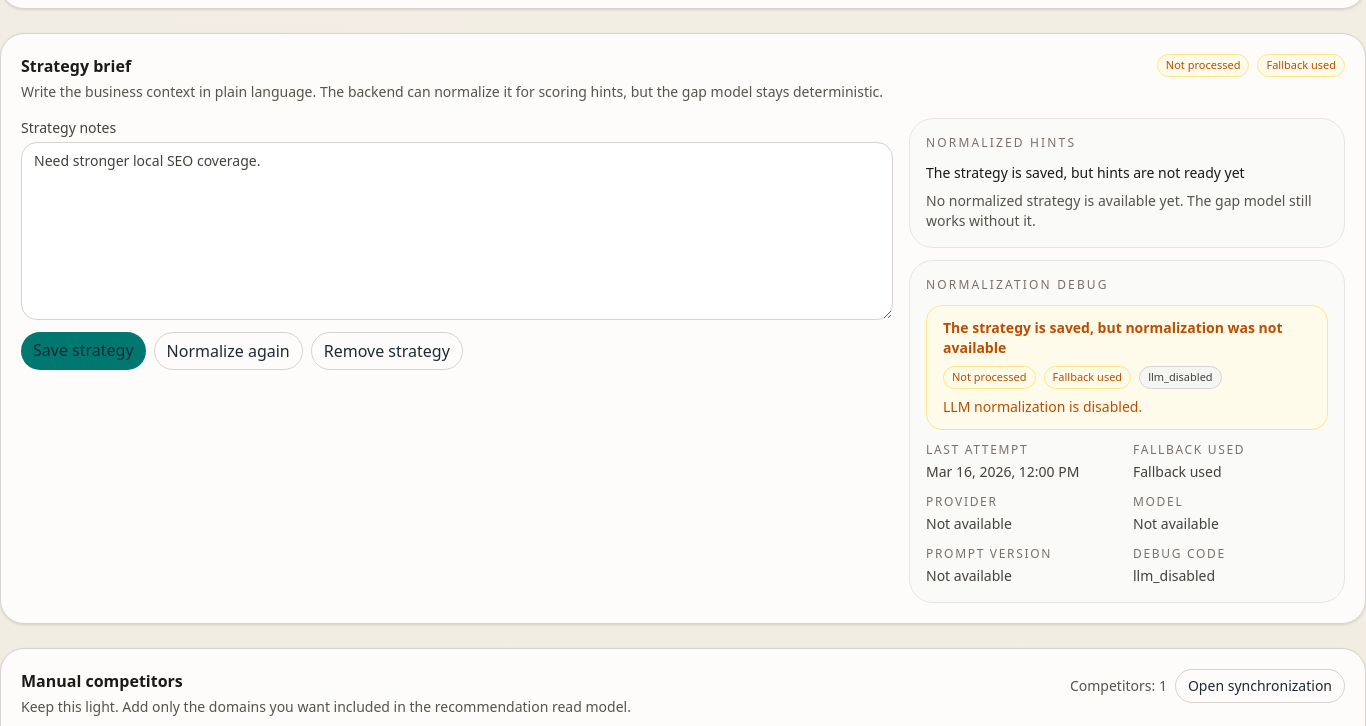
Test: SiteCompetitiveGapPage › reruns strategy normalization and syncs competitors on demand
This screenshot has width=1366, height=726.
(page scrolled)
Step 1. Click the button "Normalize again" → (228, 351), box [154,332,303,370]
(page scrolled)
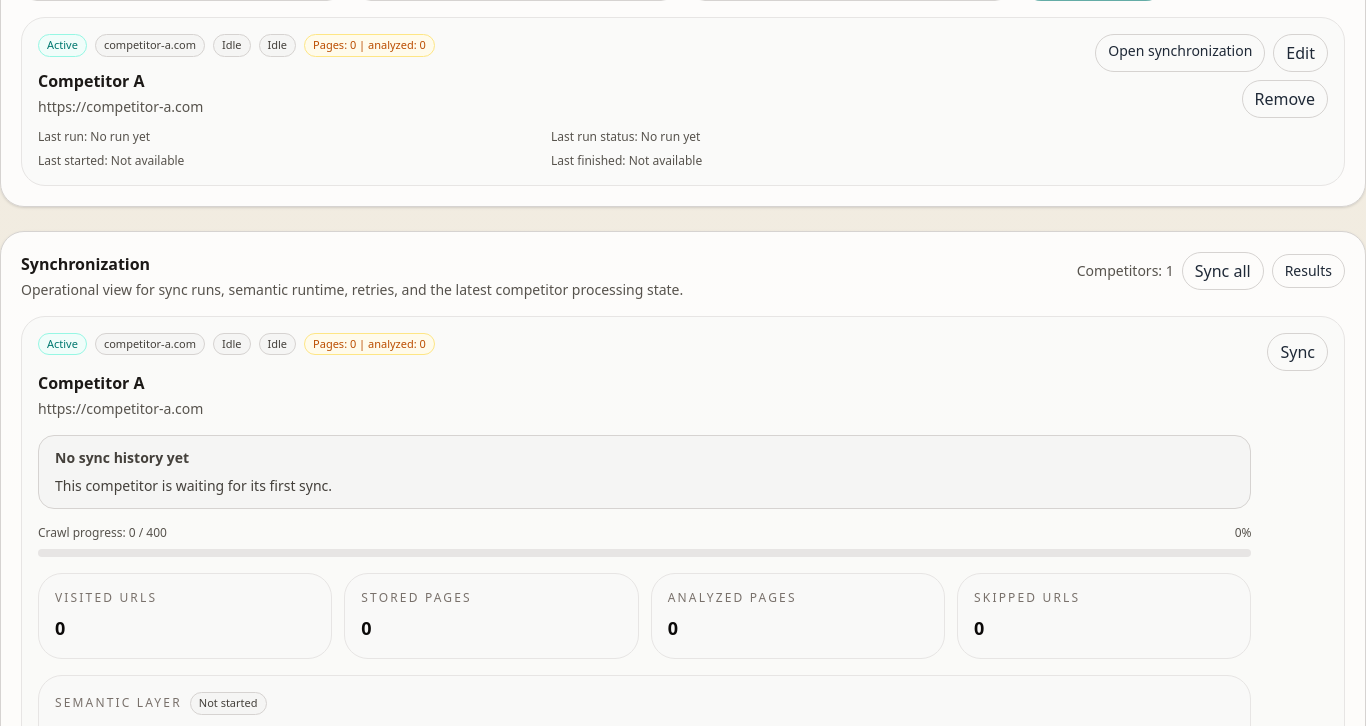
Step 2. Click the button "Sync" → (1298, 352), box [1268,332,1328,370]
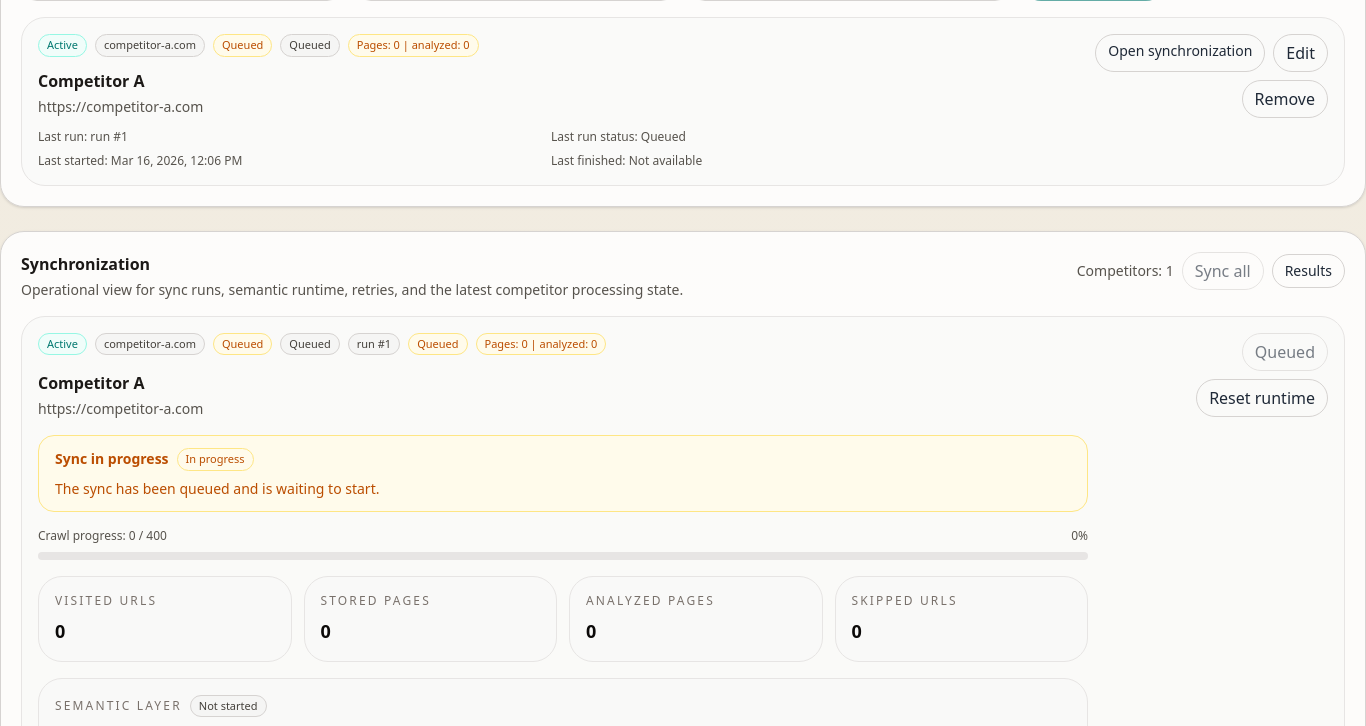
Result: the 1st text "Queued" is shown at [213,34,272,56]
Step 3. Click the button "Reset runtime" → (1262, 398), box [1196,378,1328,416]
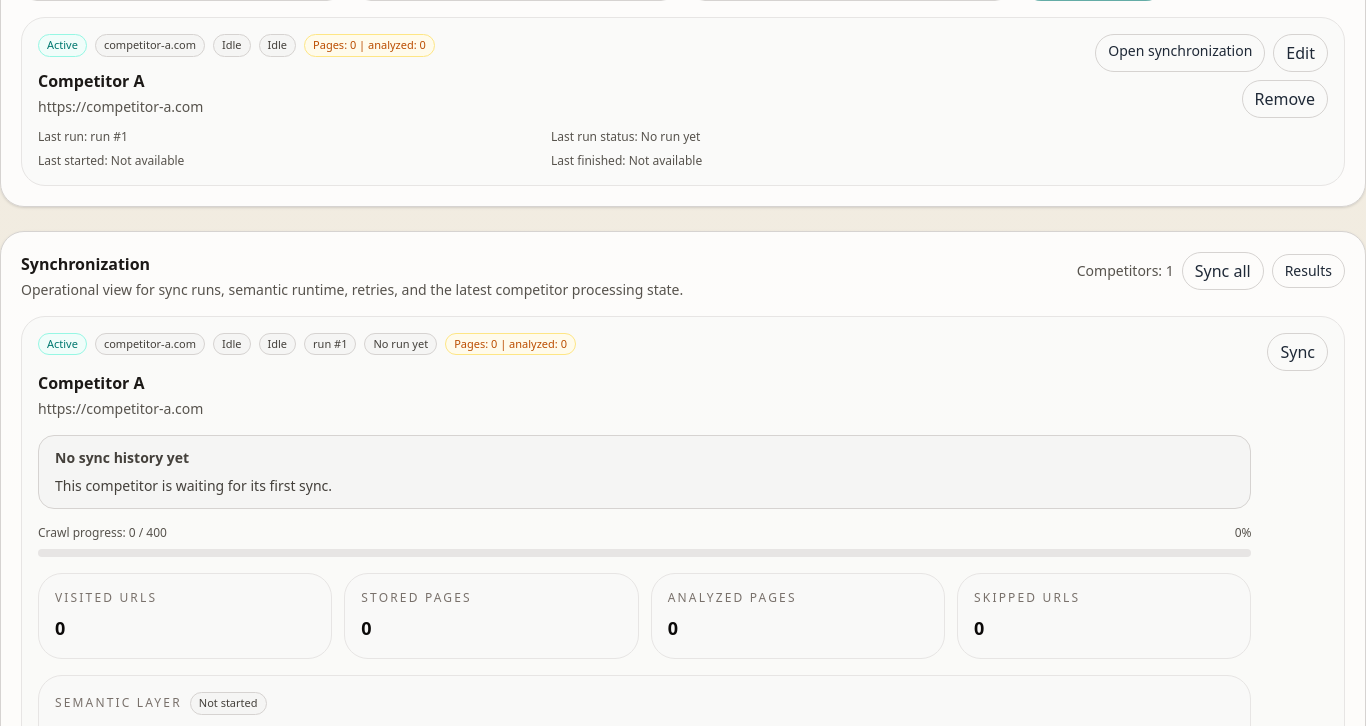
Result: the 1st text "Idle" is shown at [213,34,250,56]
